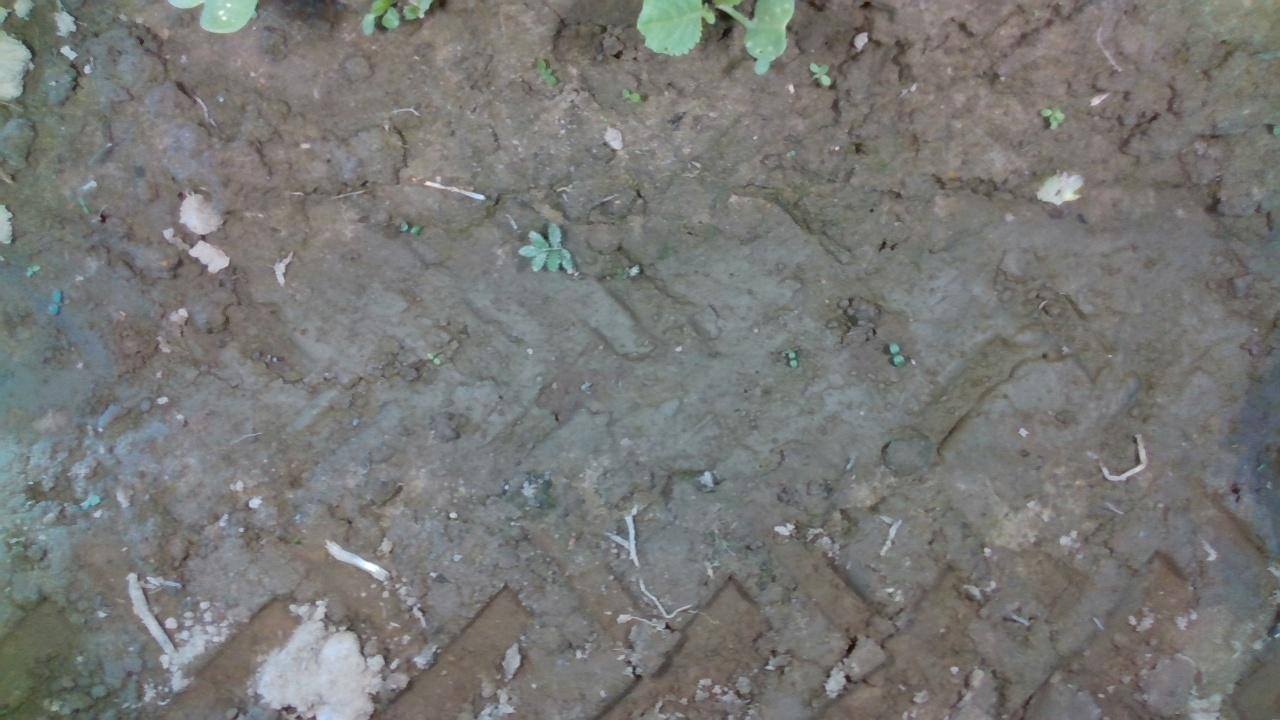weed: (534, 55, 557, 86), (806, 60, 830, 86), (886, 339, 906, 368), (423, 350, 443, 366), (621, 87, 640, 103), (787, 348, 798, 368)
